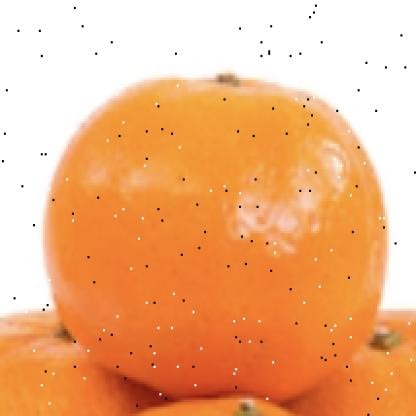fresh: (46, 77, 390, 406)
